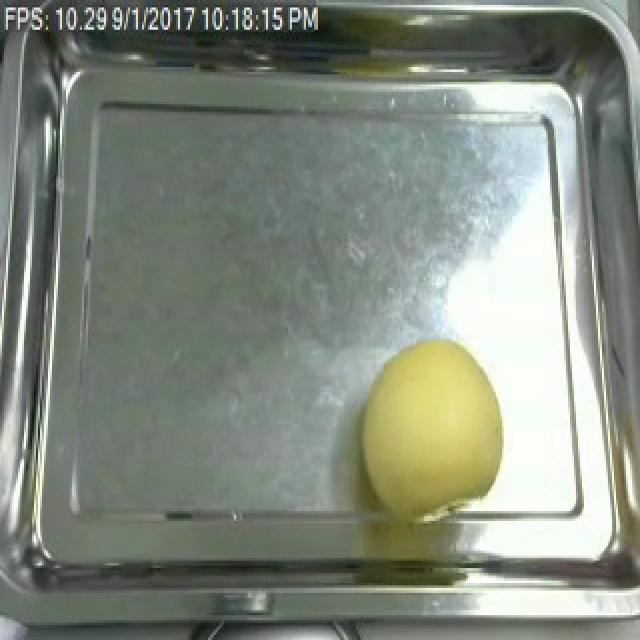Fruit: (352, 330, 516, 516)
